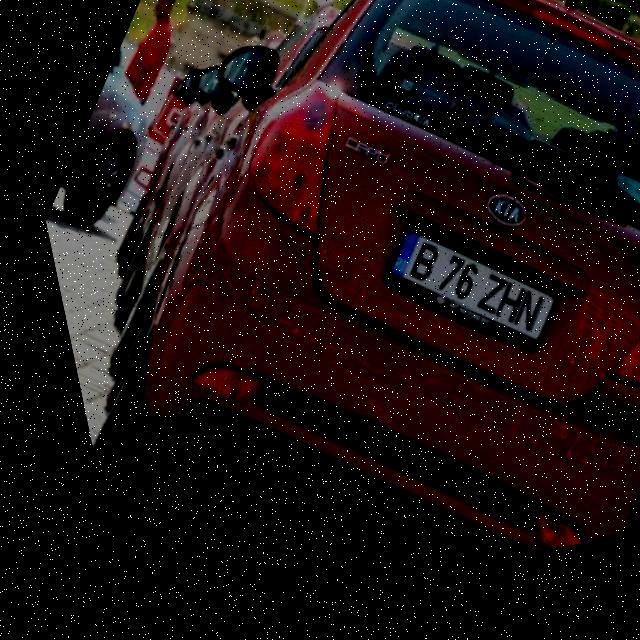license_plate: (356, 217, 552, 394)
